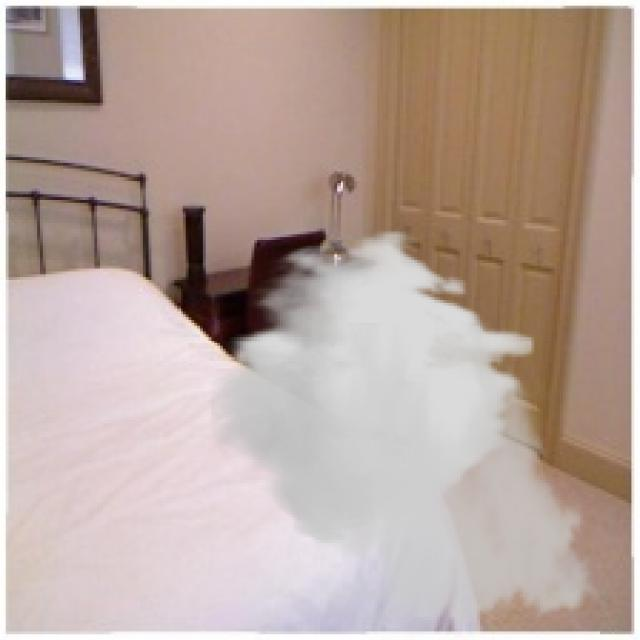smoke: (212, 229, 612, 637)
